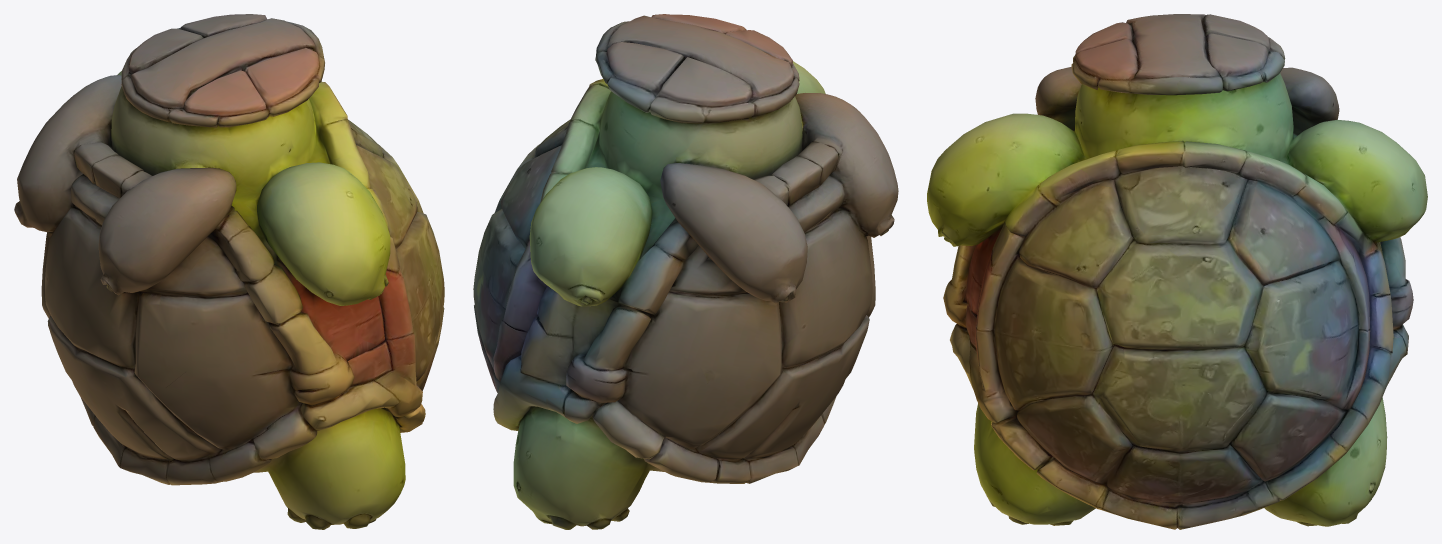
Rendered from body.glb.
3 views of the same model, side by side, from view 1: azimuth 30°, elevation 25°; view 2: azimuth 150°, elevation 25°; view 3: azimuth 270°, elevation 25° (orthographic). The views are drawn at different scales.
Parts seen in each view (by area): view 1: tripo_node_0fb47193-bdd5-4143-9433-cb74dc5868ca; view 2: tripo_node_0fb47193-bdd5-4143-9433-cb74dc5868ca; view 3: tripo_node_0fb47193-bdd5-4143-9433-cb74dc5868ca.
Boxes of the visible parts, left/top/right/bottom form: tripo_node_0fb47193-bdd5-4143-9433-cb74dc5868ca: left=14, top=14, right=444, bottom=529; tripo_node_0fb47193-bdd5-4143-9433-cb74dc5868ca: left=473, top=14, right=898, bottom=529; tripo_node_0fb47193-bdd5-4143-9433-cb74dc5868ca: left=927, top=14, right=1427, bottom=529.
Bounding box in the file's own units: 0.8191 × 1 × 0.982.
1 material, 1 textured.
